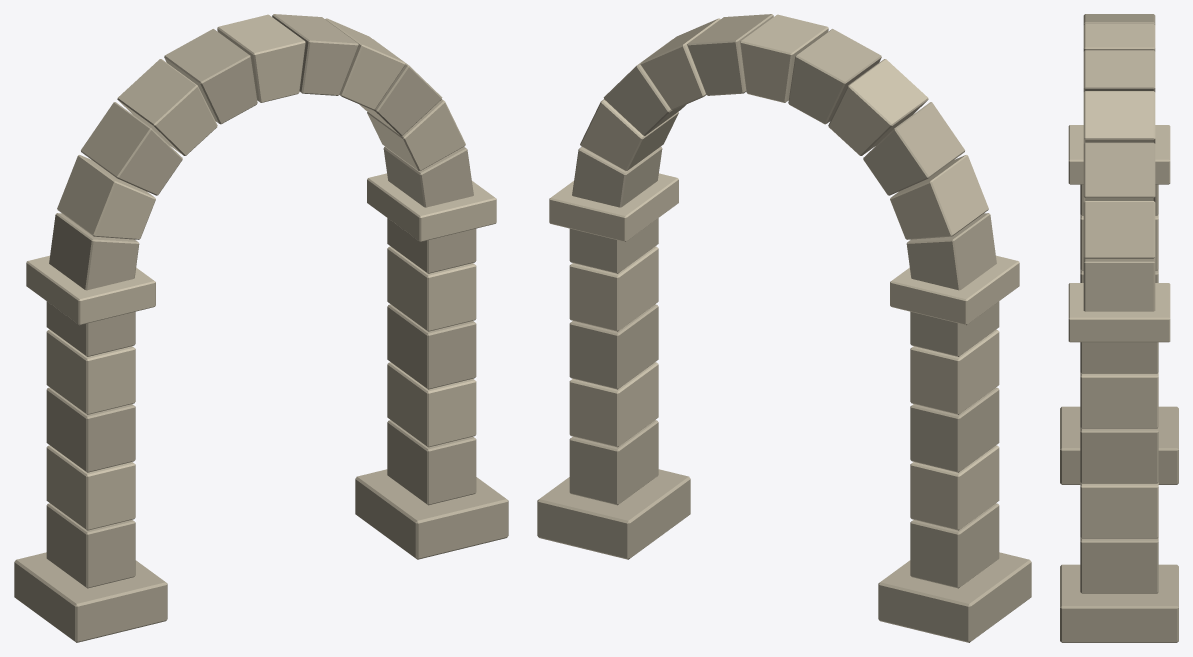
Rendered from S010_freestanding_arch_rebuilt.glb.
3 views of the same model, side by side, from view 1: azimuth 30°, elevation 25°; view 2: azimuth 150°, elevation 25°; view 3: azimuth 270°, elevation 25° (orthographic). The views are drawn at different scales.
Visible parts, largest first — view 1: Limestone_painted_foam, Cut_stone_alternate_wash; view 2: Limestone_painted_foam, Cut_stone_alternate_wash; view 3: Limestone_painted_foam, Cut_stone_alternate_wash.
Boxes of the visible parts, left/top/right/bottom form: Limestone_painted_foam: left=14, top=14, right=508, bottom=642; Cut_stone_alternate_wash: left=26, top=14, right=496, bottom=530; Limestone_painted_foam: left=537, top=14, right=1031, bottom=642; Cut_stone_alternate_wash: left=549, top=14, right=1019, bottom=530; Limestone_painted_foam: left=1060, top=14, right=1178, bottom=642; Cut_stone_alternate_wash: left=1068, top=24, right=1170, bottom=538.
Size of the model in its own units: 2.8 by 3.3 by 0.7.
